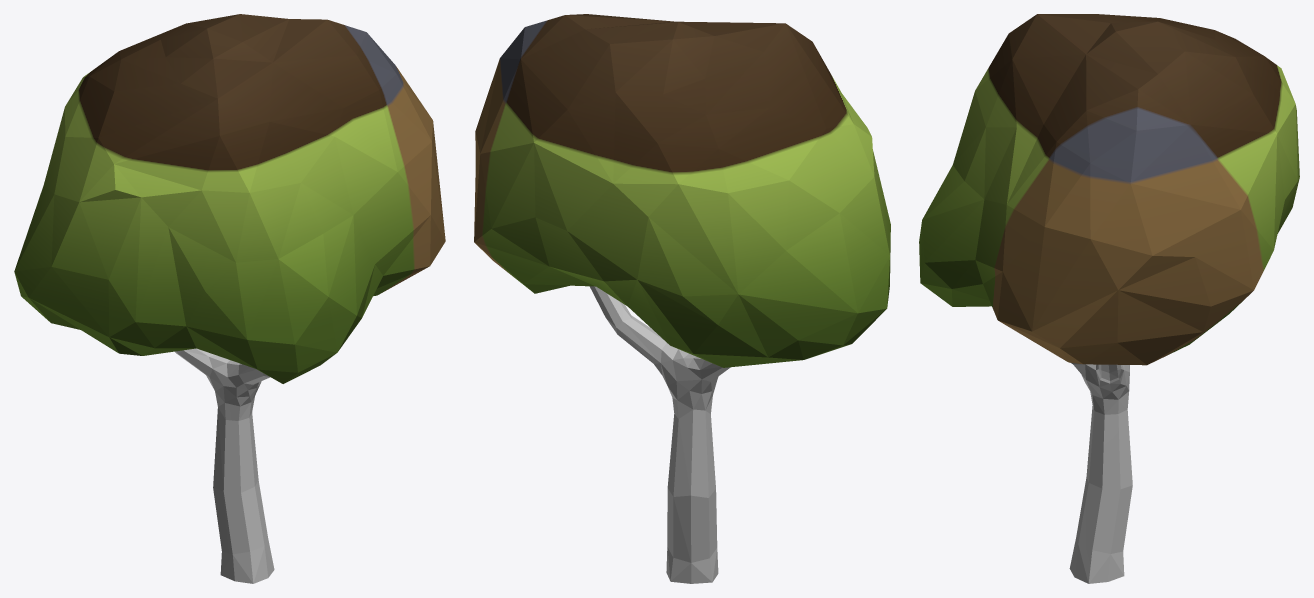
The model's file is Tree_06.fbx.
3 renders of one model, left to right at view 1: azimuth 30°, elevation 25°; view 2: azimuth 150°, elevation 25°; view 3: azimuth 270°, elevation 25°, orthographic. The views are drawn at different scales.
Visible parts, largest first — view 1: Tree_06; view 2: Tree_06; view 3: Tree_06.
Boxes of the visible parts, x1,y1,x2,y2 form: Tree_06: [14, 14, 445, 583]; Tree_06: [474, 14, 890, 583]; Tree_06: [919, 14, 1299, 583].
Bounding box in the file's own units: 3.78 × 4.95 × 3.13.
